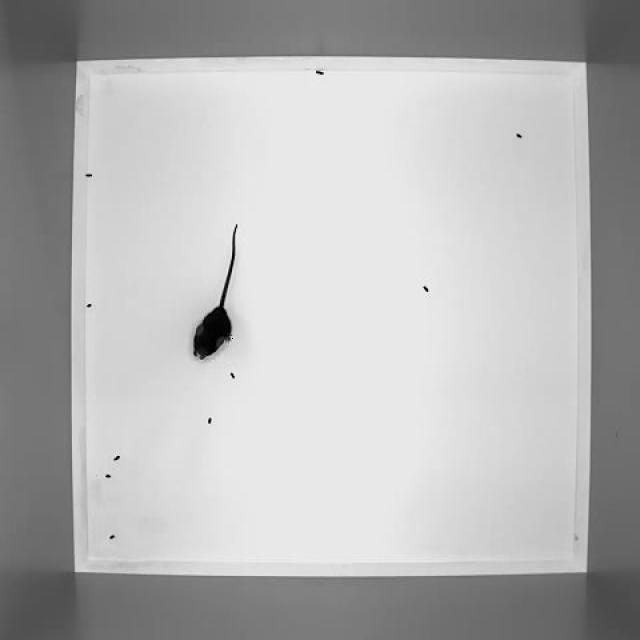rat: (190, 222, 242, 362)
